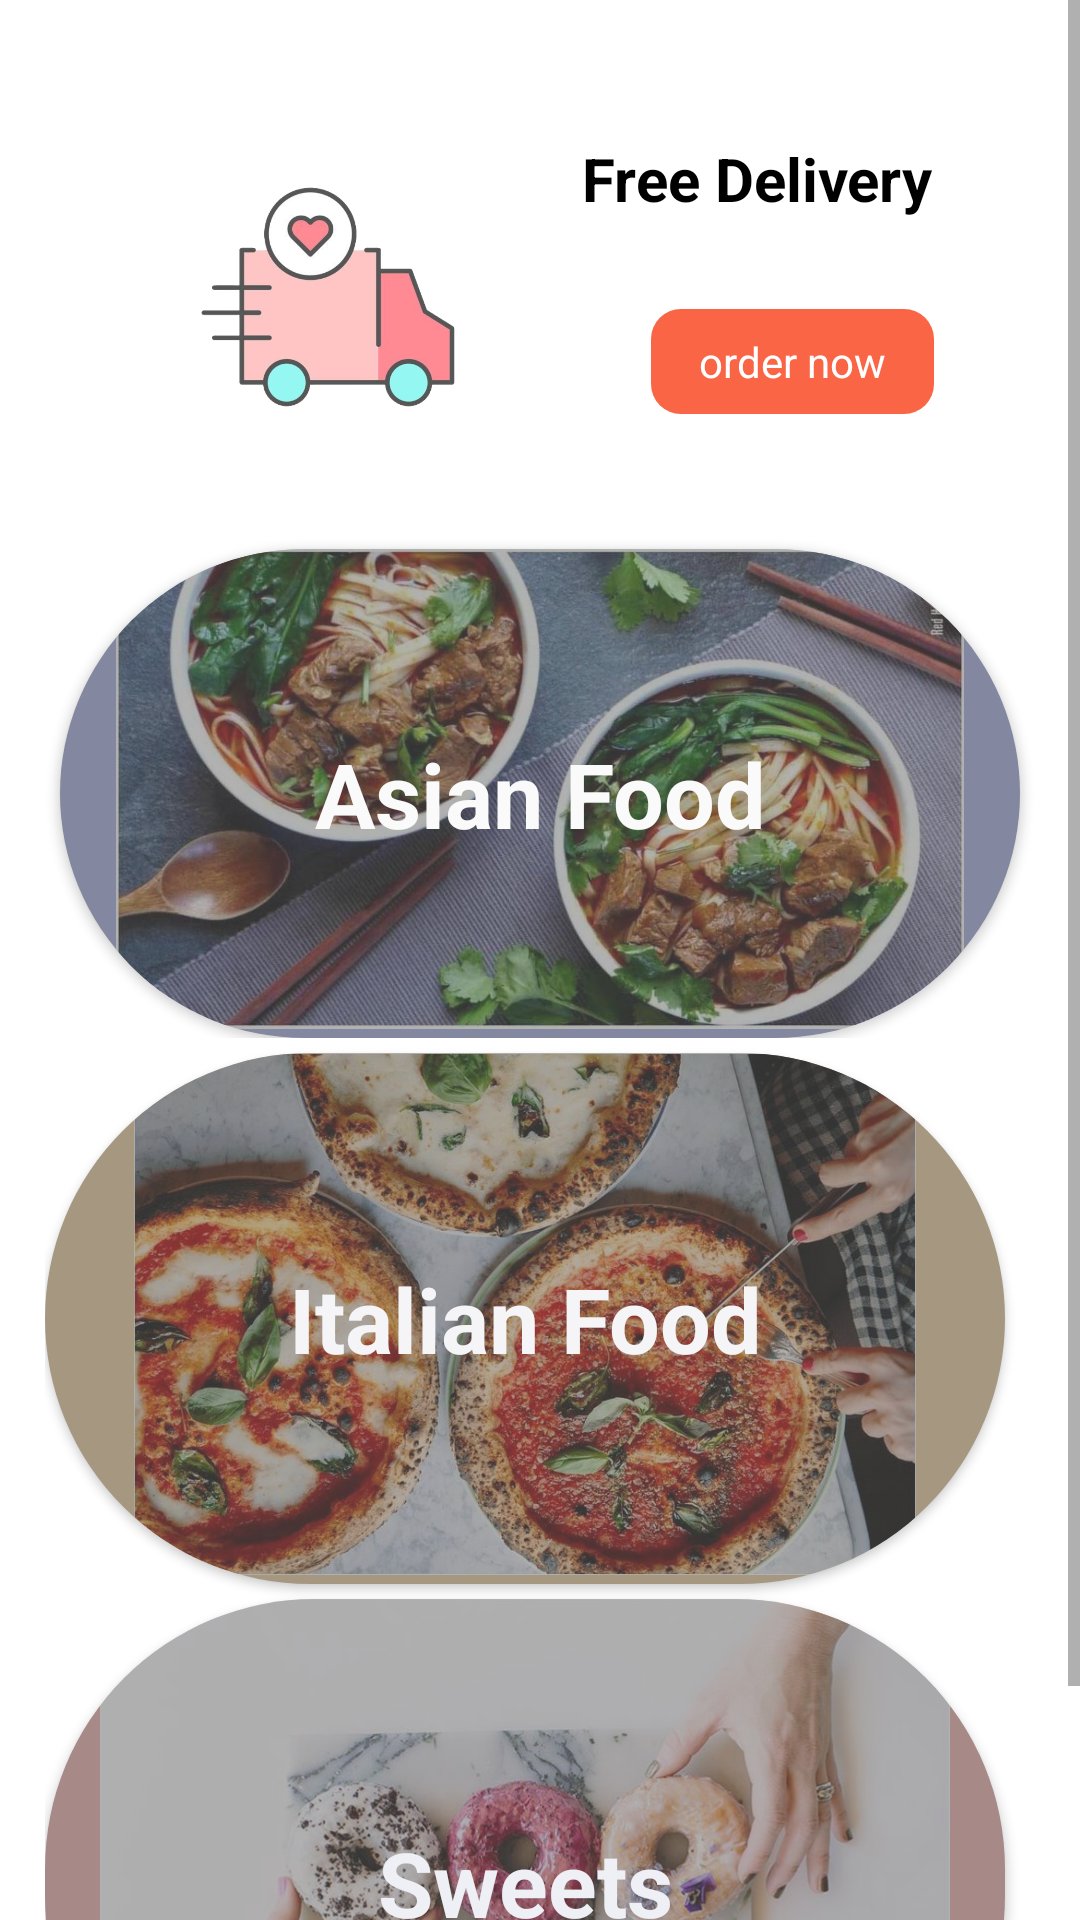

Where to tap for icons on this 1080 x 1920 app screen, as (x,y):
deliverytrunk: (328,297)
